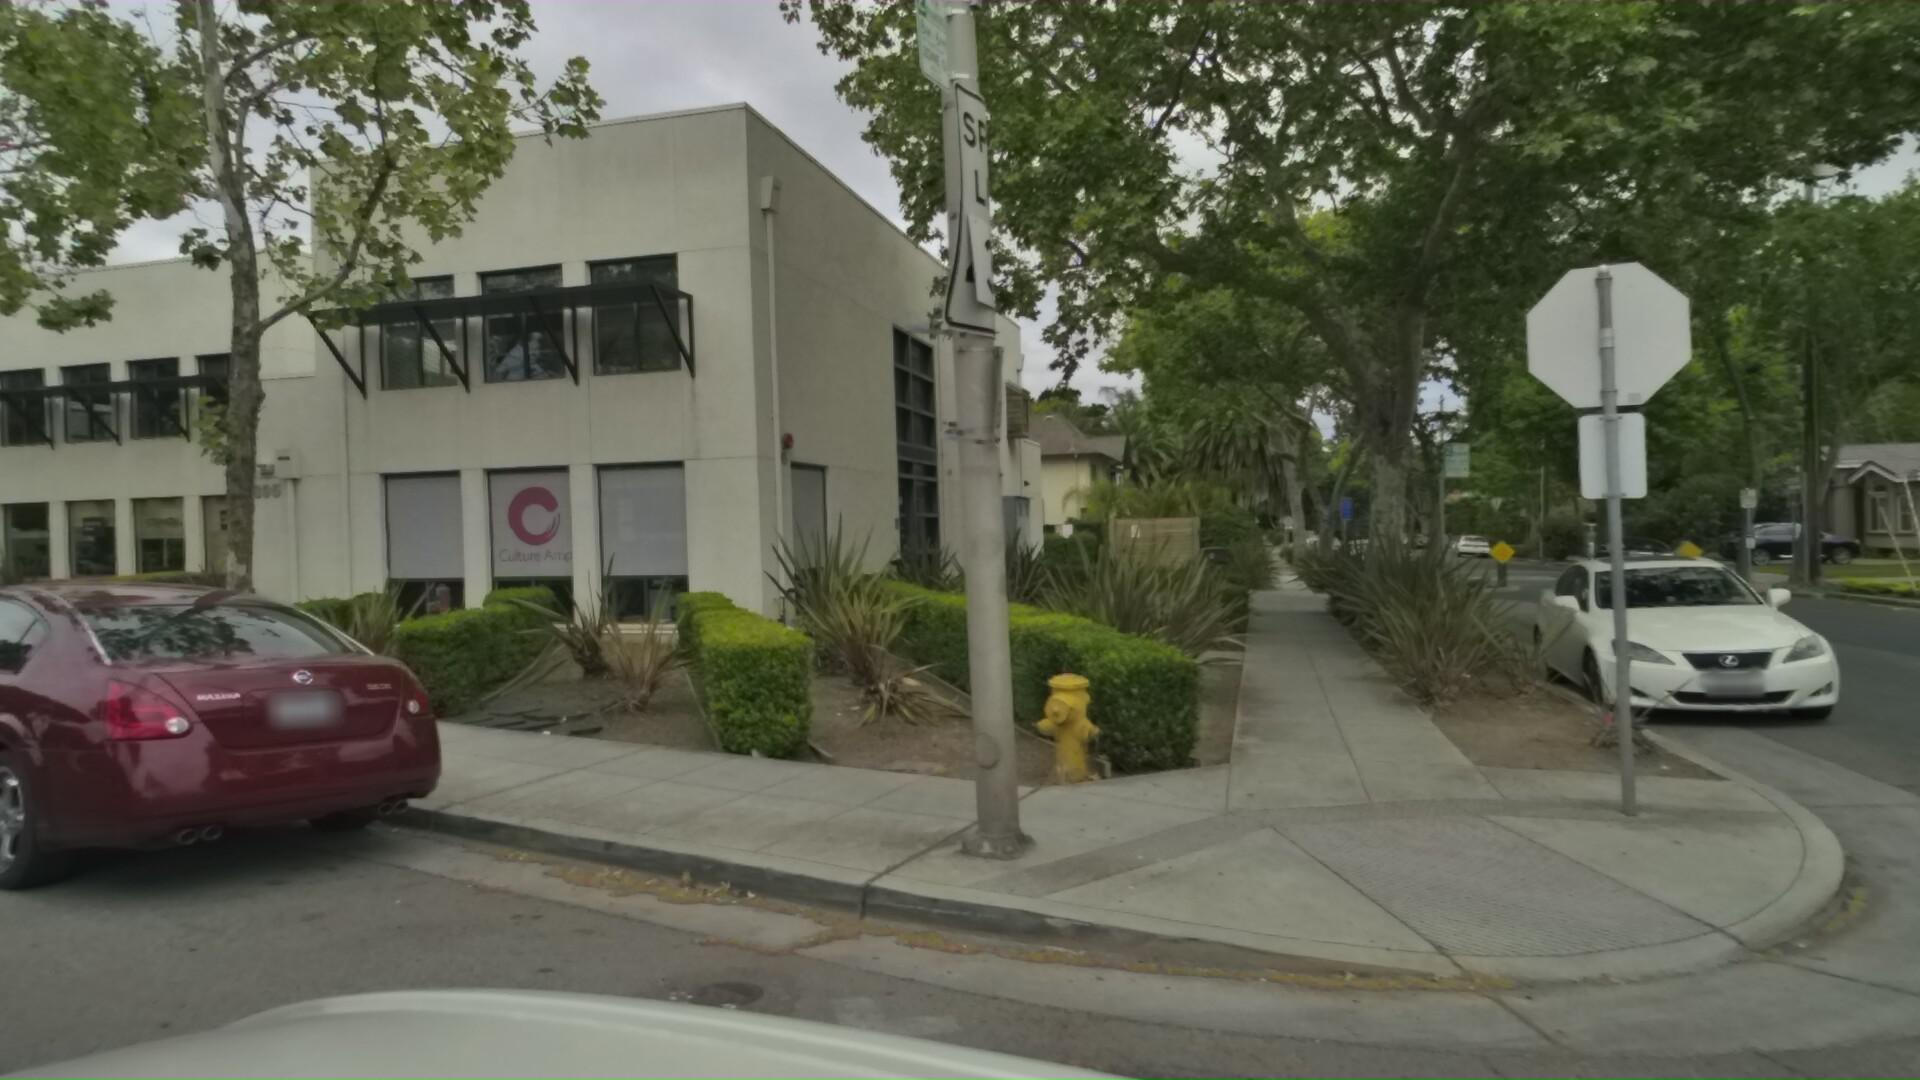car: (0, 555, 549, 986), (1549, 534, 1920, 750), (0, 525, 61, 833), (1720, 508, 1876, 558), (1596, 526, 1701, 576), (1452, 522, 1498, 553)
